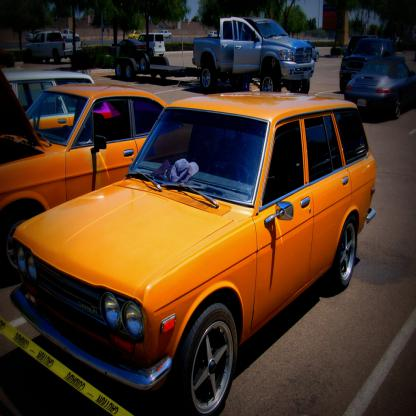Car: (0, 89, 372, 413), (1, 67, 190, 273), (6, 66, 94, 127), (343, 55, 416, 118), (339, 32, 404, 89), (139, 30, 167, 56), (127, 27, 141, 39)
Truck: (176, 19, 332, 95)
